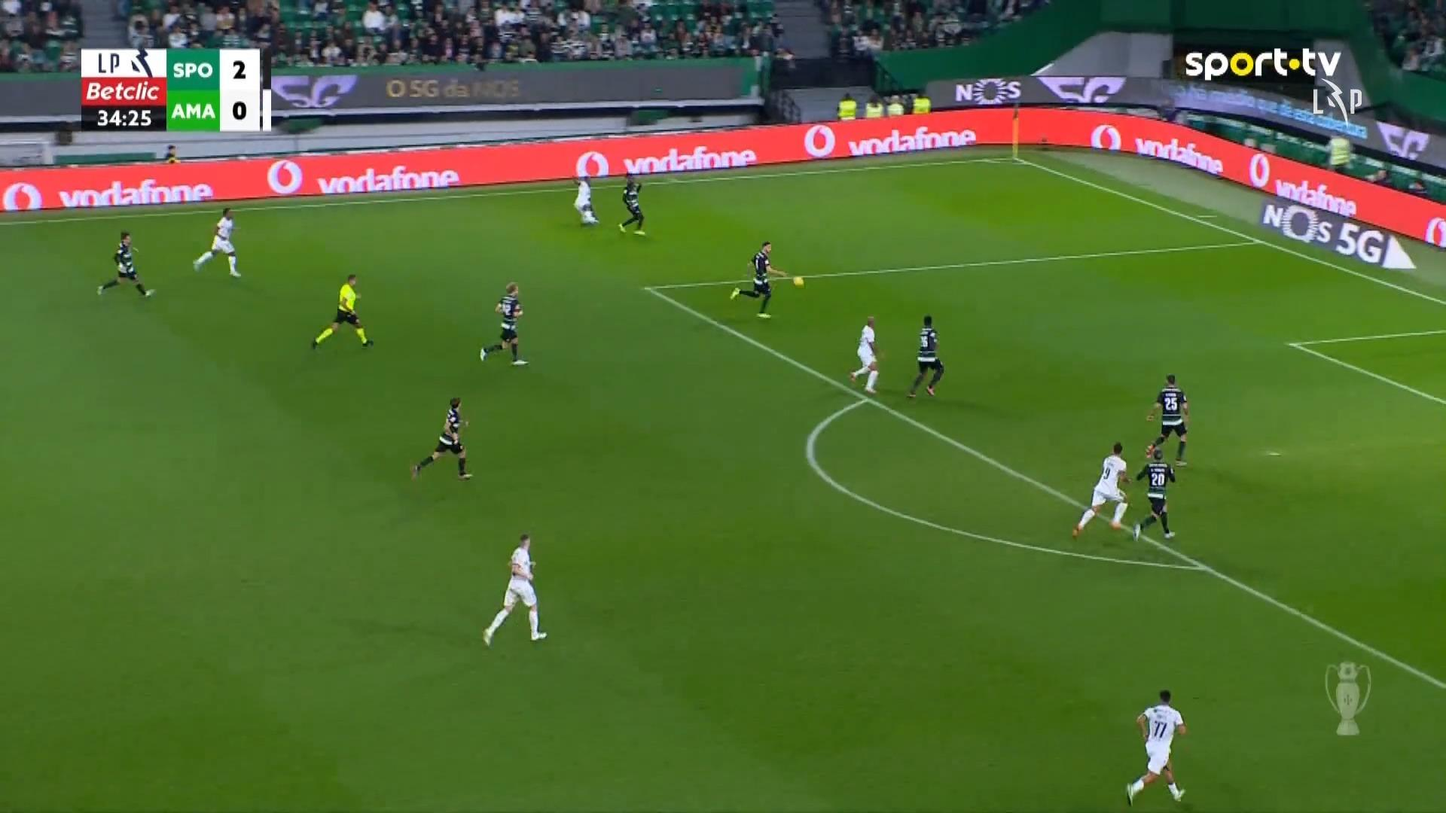ball: (792, 276, 804, 288)
player: (481, 532, 548, 648), (1124, 688, 1187, 806), (1071, 441, 1131, 538), (410, 396, 473, 480), (728, 240, 788, 318), (1131, 444, 1176, 541), (478, 282, 529, 366), (1145, 373, 1189, 465), (96, 230, 155, 298), (191, 207, 242, 278), (905, 314, 944, 398), (848, 315, 880, 393), (617, 171, 645, 235), (572, 173, 599, 226)
referee: (310, 273, 374, 351)
